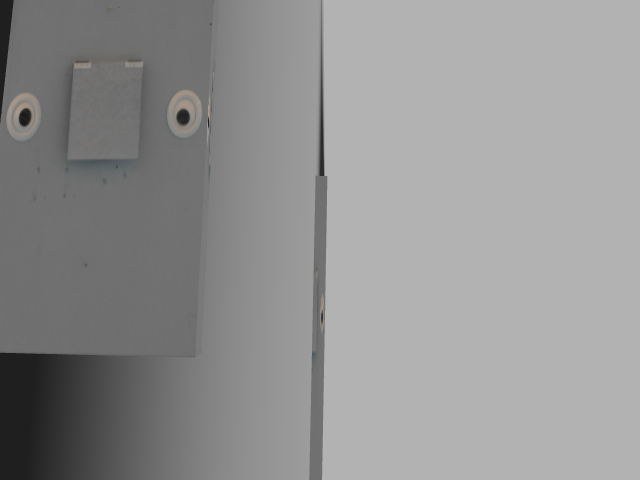facade: (0, 55, 204, 164)
